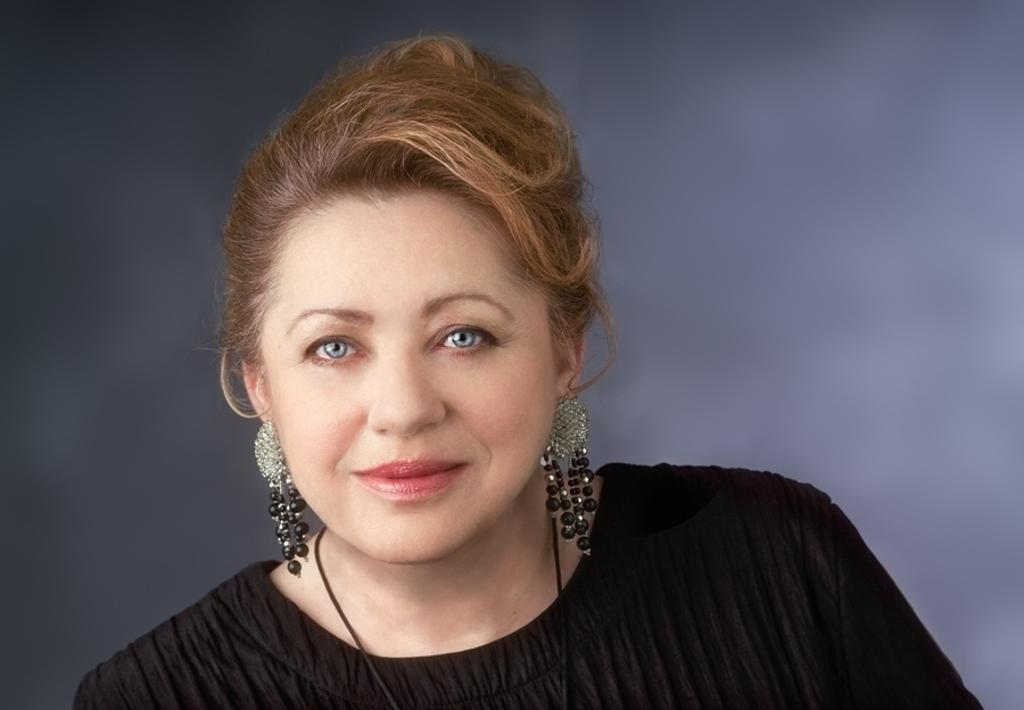face: (261, 197, 559, 557)
